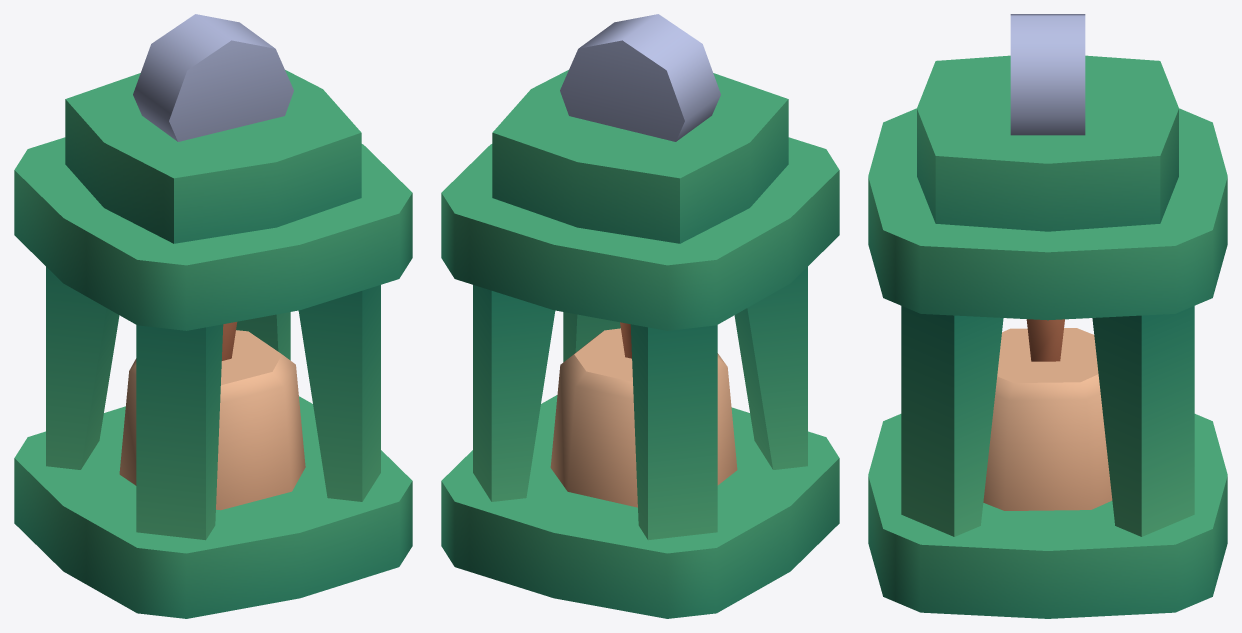
Rendered from cc0-lantern-candle-lod0.glb.
3 renders of one model, left to right at view 1: azimuth 30°, elevation 25°; view 2: azimuth 150°, elevation 25°; view 3: azimuth 270°, elevation 25°, orthographic. The views are drawn at different scales.
Visible parts, largest first — view 1: part_0; view 2: part_0; view 3: part_0.
Boxes of the visible parts, x1,y1,x2,y2 form: part_0: [14, 14, 412, 618]; part_0: [441, 14, 839, 618]; part_0: [868, 14, 1227, 618].
Bounding box in the file's own units: 0.24 × 0.3877 × 0.24.
Materials: 1 (1 with a texture image).
